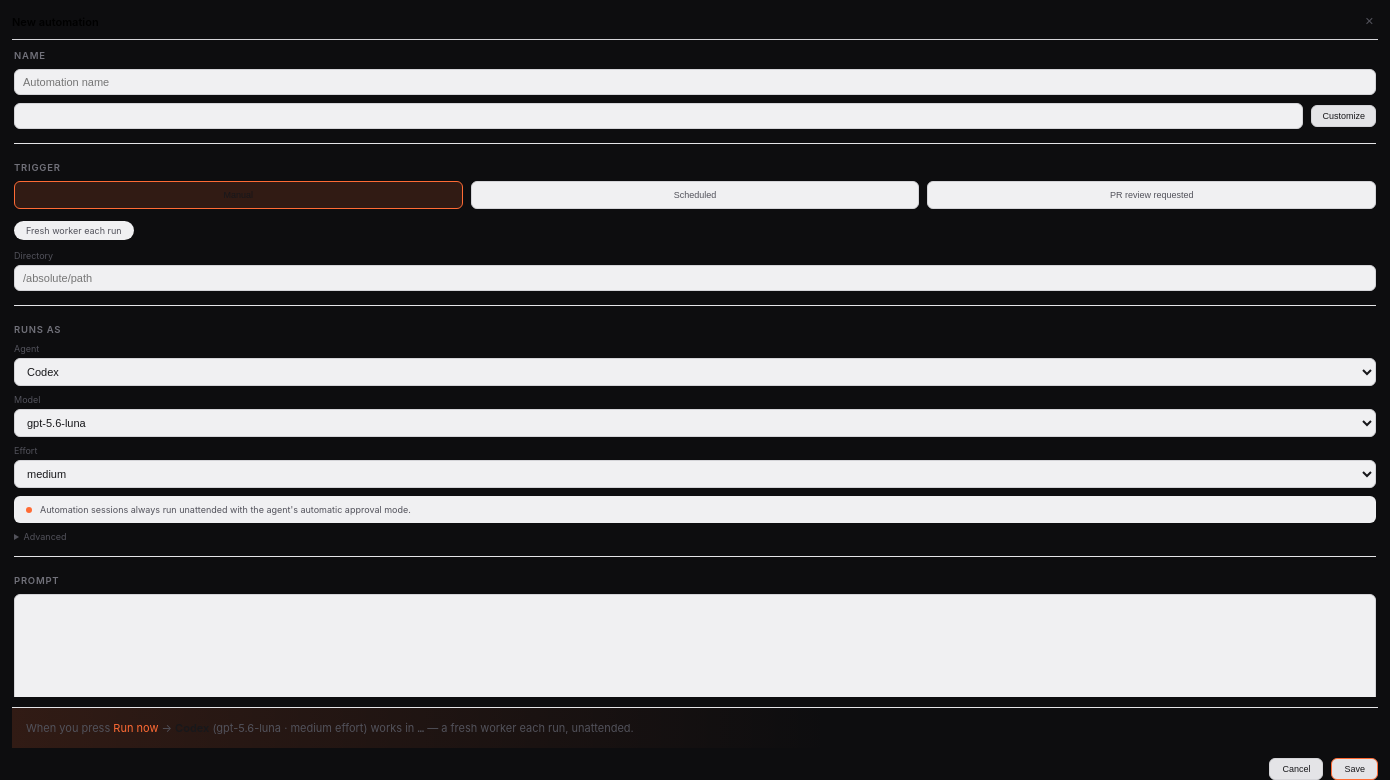
Test: AutomationForm › id_collision renders the error on the id field, not a stale banner
Type "Dup" into the field with test id "automation-form-name".
click(695, 82); type("Dup")  # box [14, 69, 1376, 95]
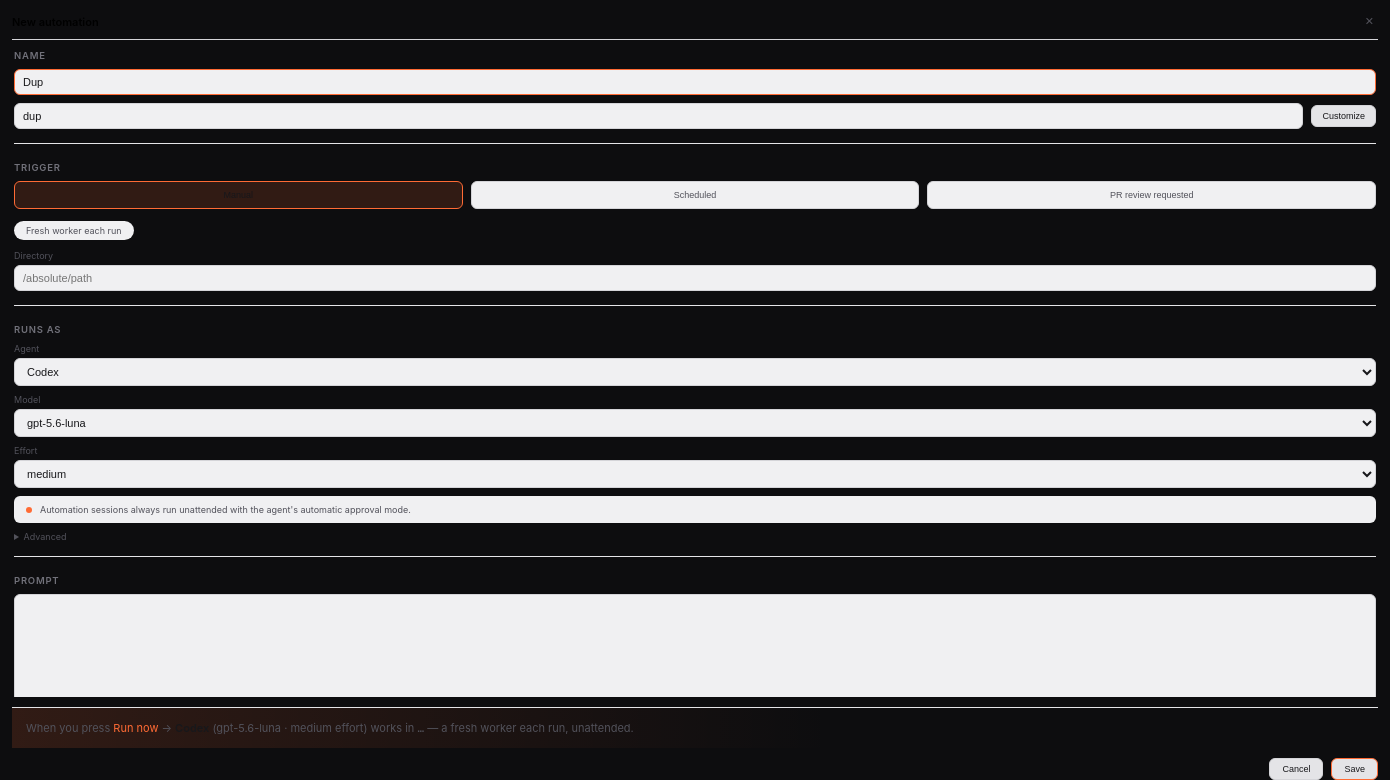
Type "/tmp/x" into the field with test id "automation-form-directory-path".
click(695, 278); type("/tmp/x")  # box [14, 265, 1376, 291]
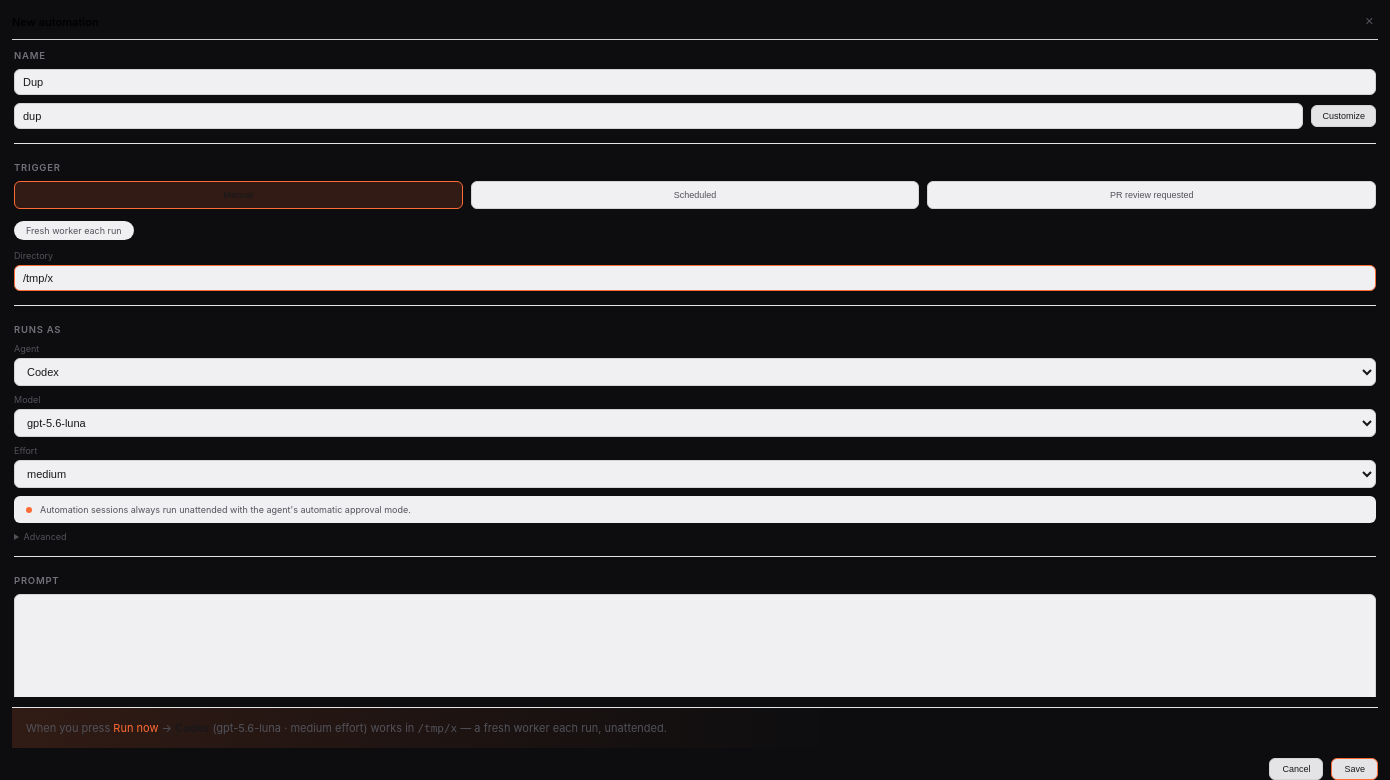
Type "Do it" into the text box with test id "automation-form-prompt".
click(695, 654); type("Do it")  # box [14, 594, 1376, 714]
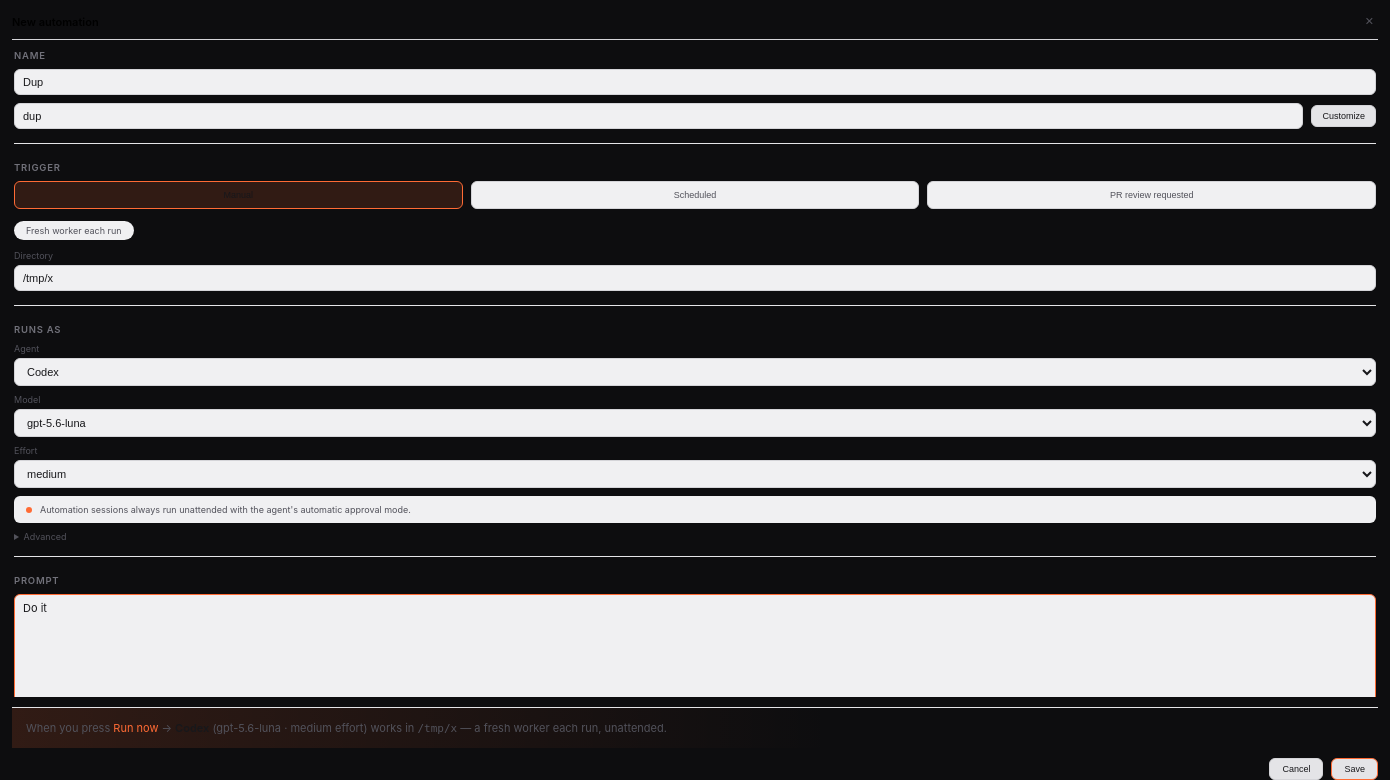
Click the button with test id "automation-form-save".
click(1355, 769)  # box [1332, 758, 1378, 779]
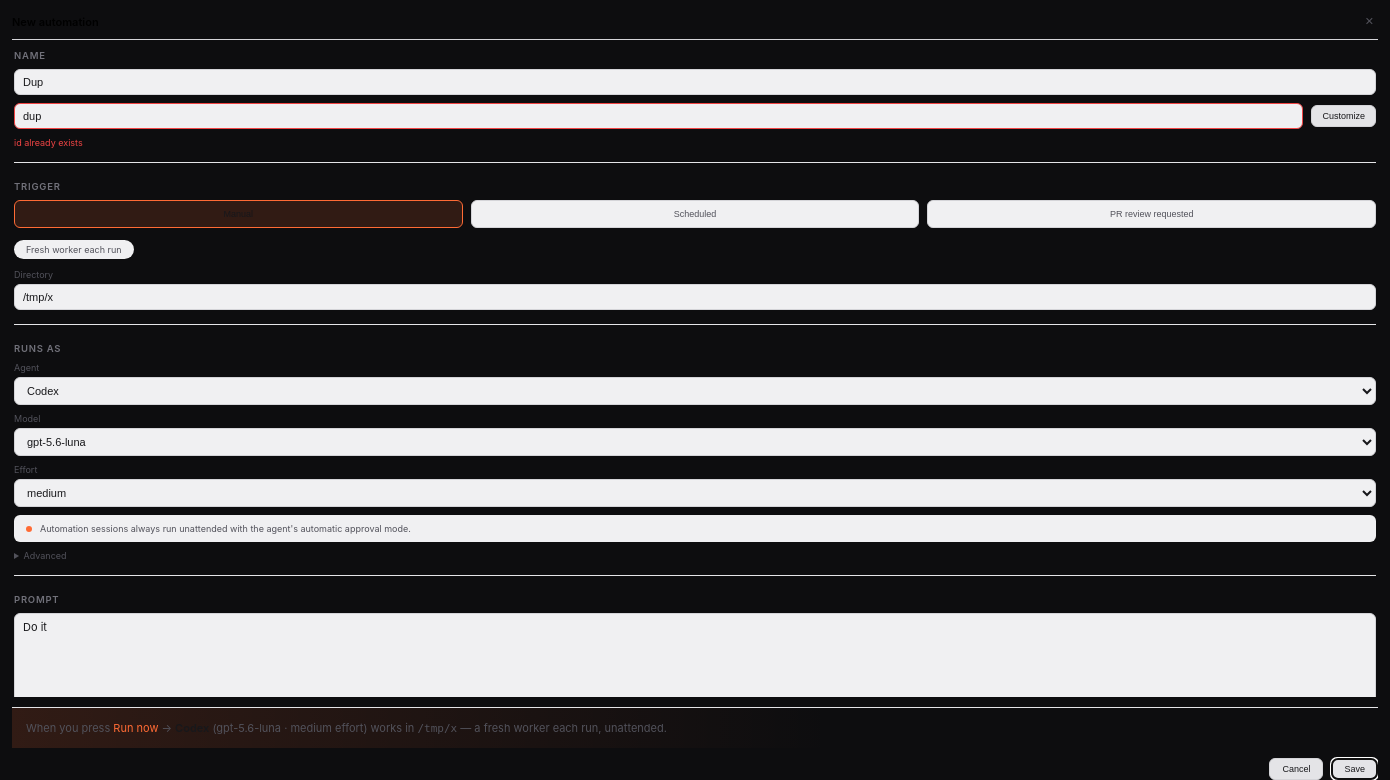
Result: the text with test id "automation-form-error-id" reads "id already exists" at [14, 137, 83, 148]
